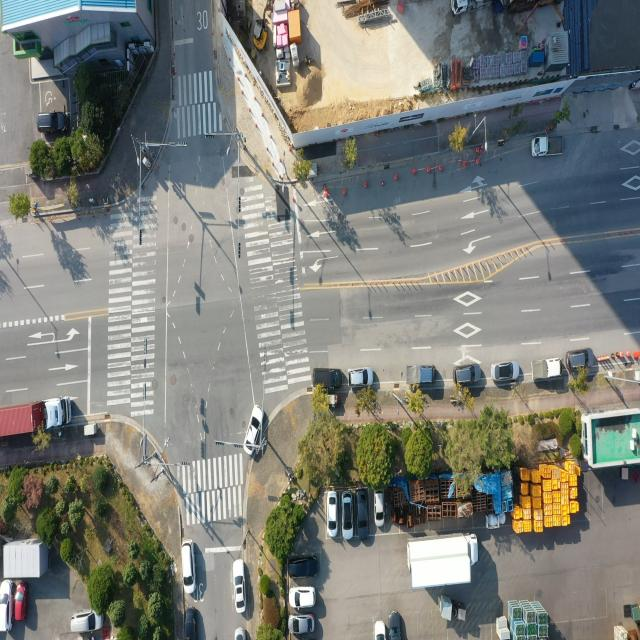car: (244, 404, 264, 454), (70, 610, 104, 637), (39, 110, 70, 134), (314, 366, 345, 390), (184, 543, 198, 596), (0, 575, 13, 630), (491, 360, 521, 383), (290, 558, 318, 582), (234, 560, 246, 614), (454, 364, 482, 387), (343, 492, 356, 540), (566, 349, 593, 371), (356, 491, 368, 539), (326, 492, 338, 538), (348, 366, 374, 387), (292, 588, 316, 610), (290, 616, 315, 637), (13, 584, 26, 622), (184, 607, 196, 640), (375, 492, 385, 526), (389, 611, 400, 640), (375, 621, 387, 640), (236, 628, 247, 640)
large_truck: (0, 398, 72, 442)
medium_truck: (404, 534, 477, 590), (450, 0, 492, 19)
small_truck: (532, 356, 563, 382), (404, 362, 437, 386), (534, 135, 566, 158)
